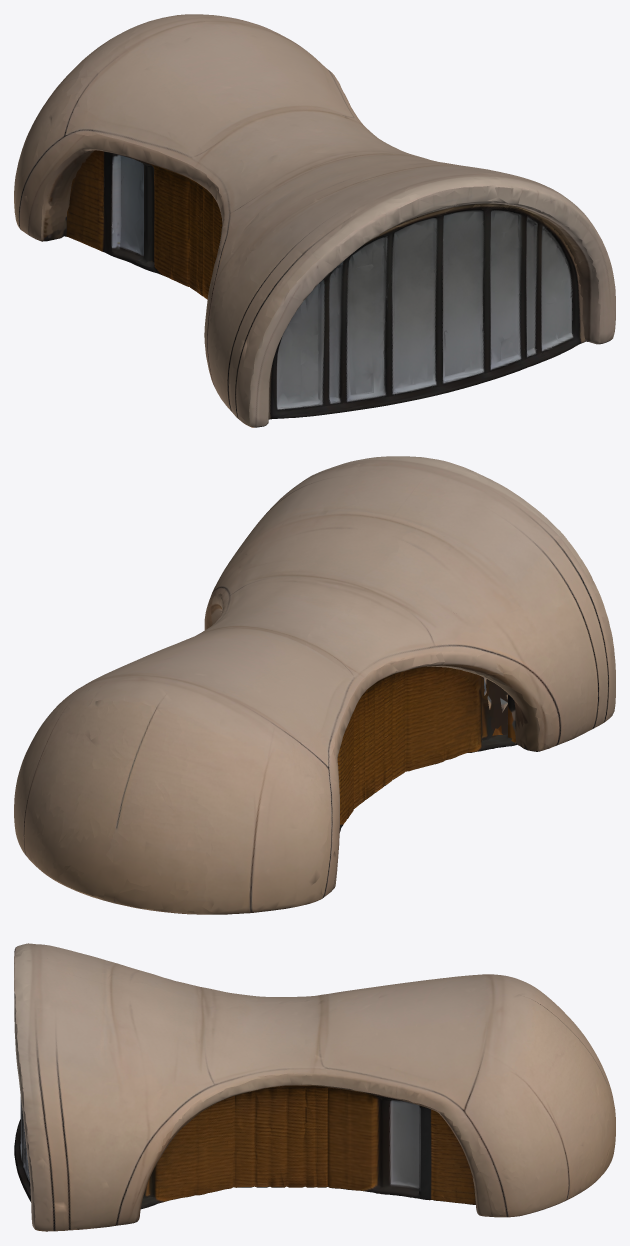
Rendered from BLDG_Barrel_Bungalow.glb.
3 renders of one model, top to bottom at view 1: azimuth 30°, elevation 25°; view 2: azimuth 150°, elevation 25°; view 3: azimuth 270°, elevation 25°, orthographic. The views are drawn at different scales.
Visible parts, largest first — view 1: textured_mesh; view 2: textured_mesh; view 3: textured_mesh.
Part boxes in pixels (<box>): textured_mesh: <box>14,14,615,427</box>; textured_mesh: <box>14,456,615,914</box>; textured_mesh: <box>14,943,615,1231</box>.
Bounding box in the file's own units: 1.3 × 0.6874 × 2.
Materials: 1 (1 with a texture image).
